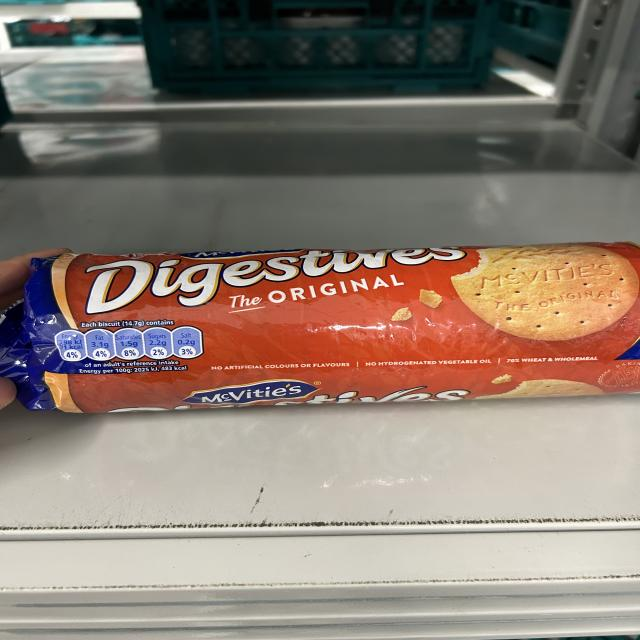object_name: (20, 254, 640, 405)
